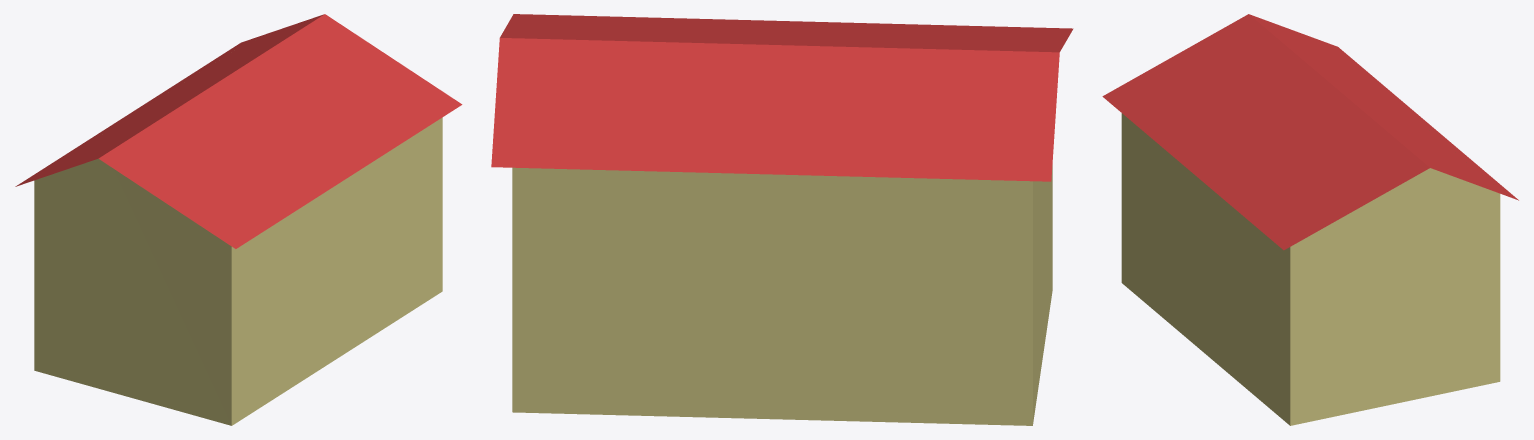
The picture shows the model from 3 angles, left to right: view 1: azimuth 30°, elevation 25°; view 2: azimuth 150°, elevation 25°; view 3: azimuth 270°, elevation 25°; orthographic projection. The views are drawn at different scales.
Size of the model in its own units: 16.82 by 14.57 by 9.06.
